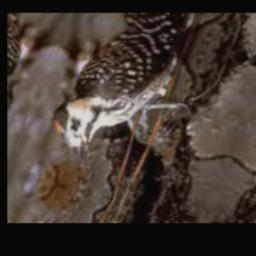Woodpecker: (35, 22, 209, 194)
